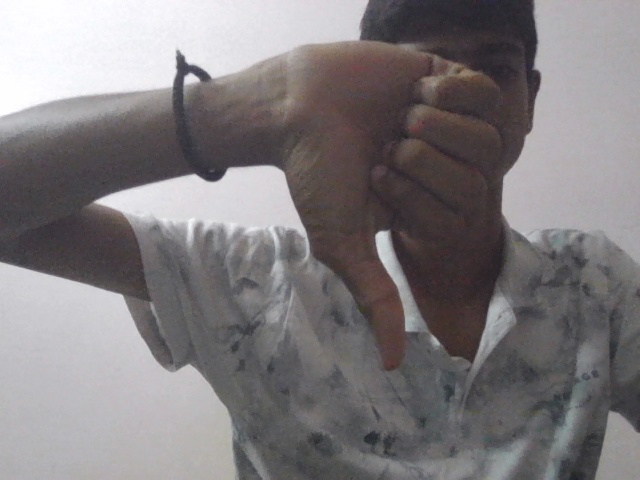no: (265, 46, 508, 371)
